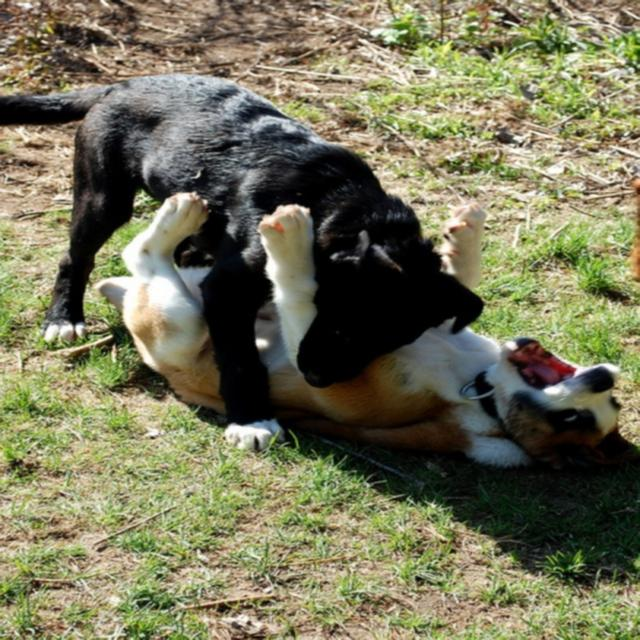dog: (0, 73, 481, 452), (92, 191, 625, 467)
